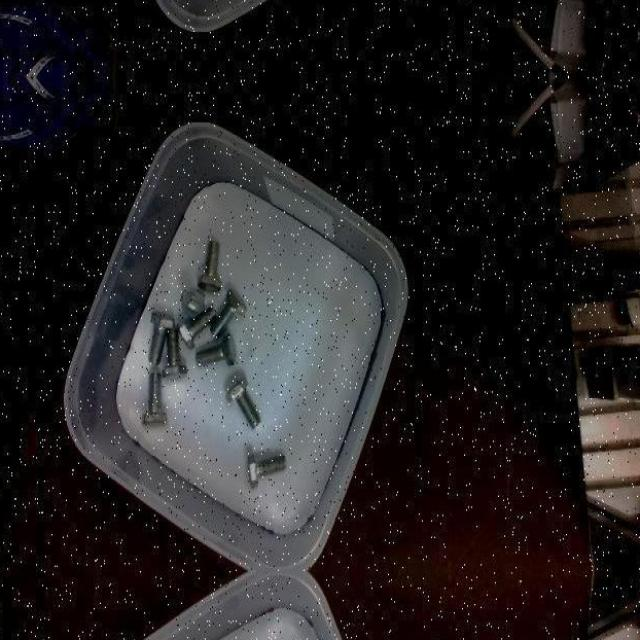screw: (226, 376, 262, 428), (210, 289, 247, 339), (177, 307, 217, 350), (148, 311, 176, 366), (142, 371, 168, 425), (196, 332, 237, 366), (248, 453, 287, 488), (162, 327, 187, 379), (198, 239, 222, 292), (181, 286, 205, 317)
